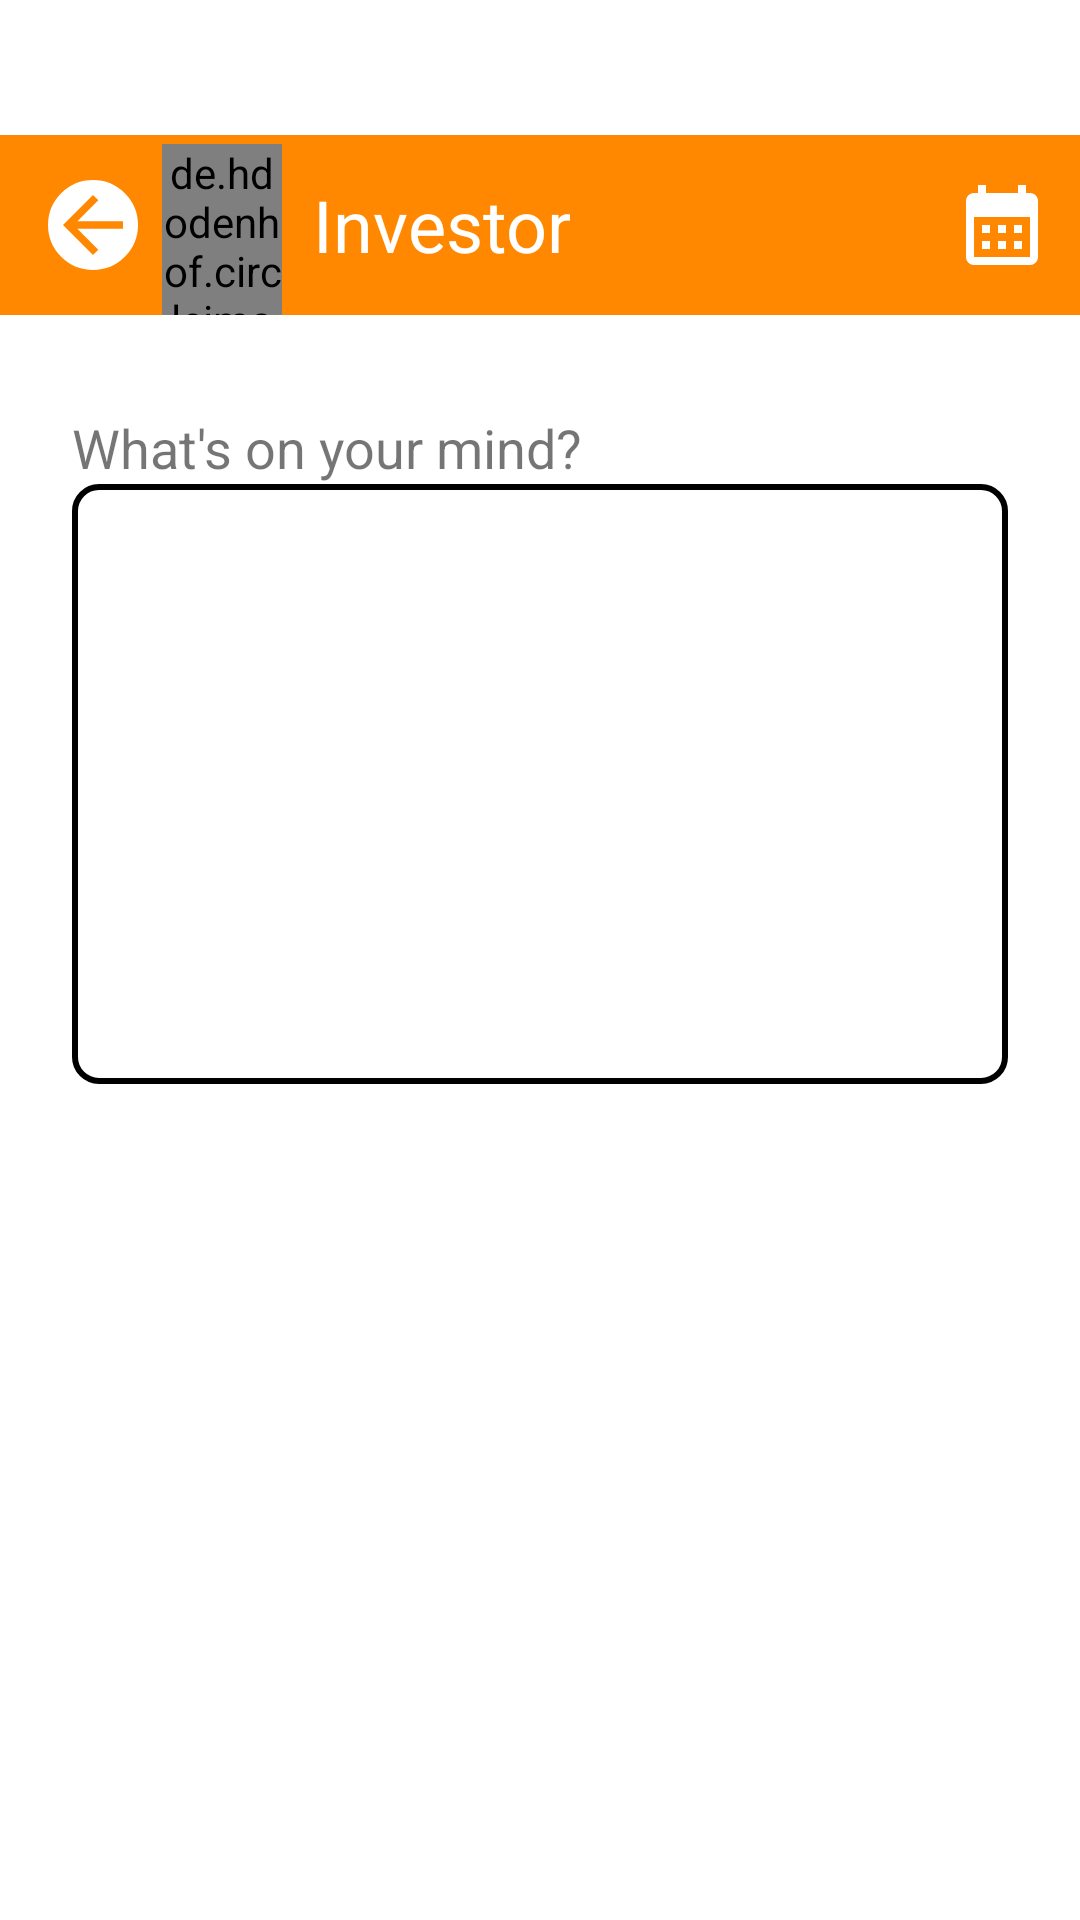

Icon bounding boxes for this 1080*1920 phone screenshot, format detection(x1, y1, x2, y2):
arrow back: detection(48, 180, 138, 270)
calendar: detection(966, 185, 1038, 265)
